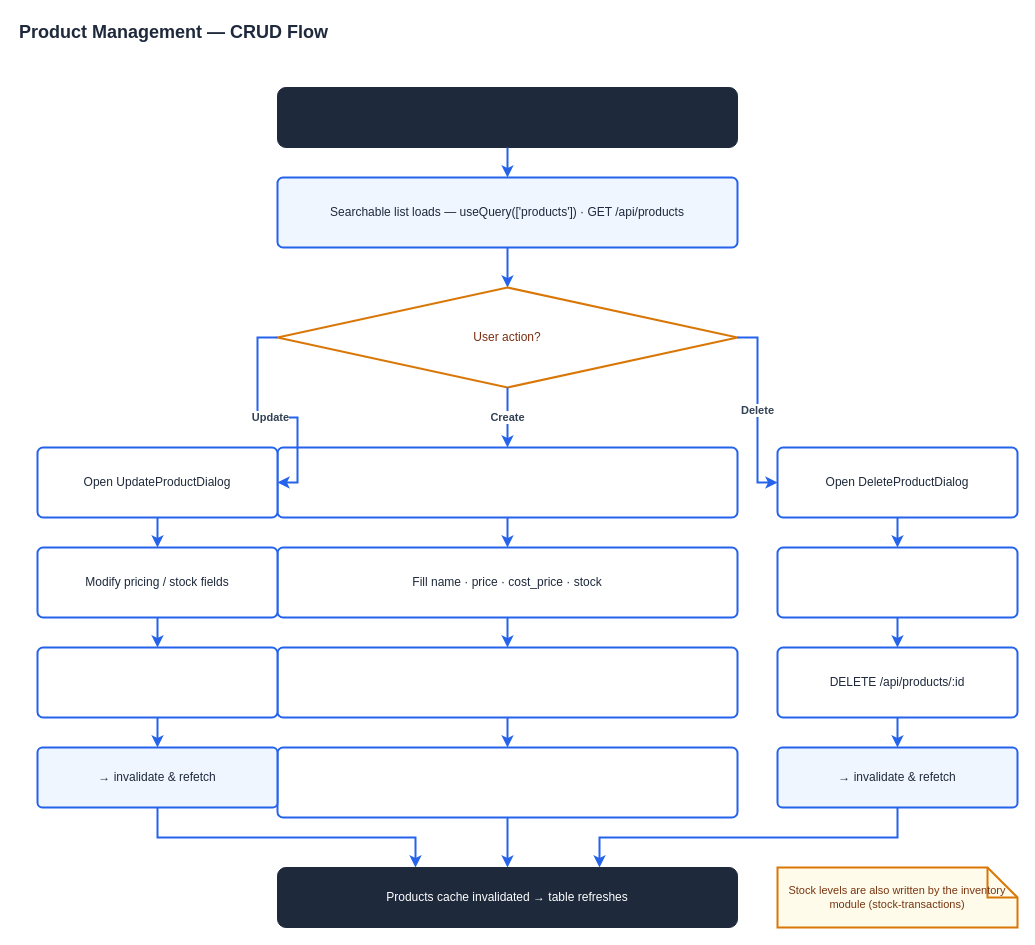
This 1035x945 diagram has some shape labels left out. Each missing label, with the centre of its shape:
"Confirm deletion" belongs at point (897, 582).
"Open CreateProductDialog" belongs at point (507, 482).
"POST /api/products → success" belongs at point (507, 782).
"PUT /api/products/:id" belongs at point (157, 682).
"Set reorder_level · is_active" belongs at point (507, 682).
"User opens Products page (permission: products.view)" belongs at point (507, 117).
